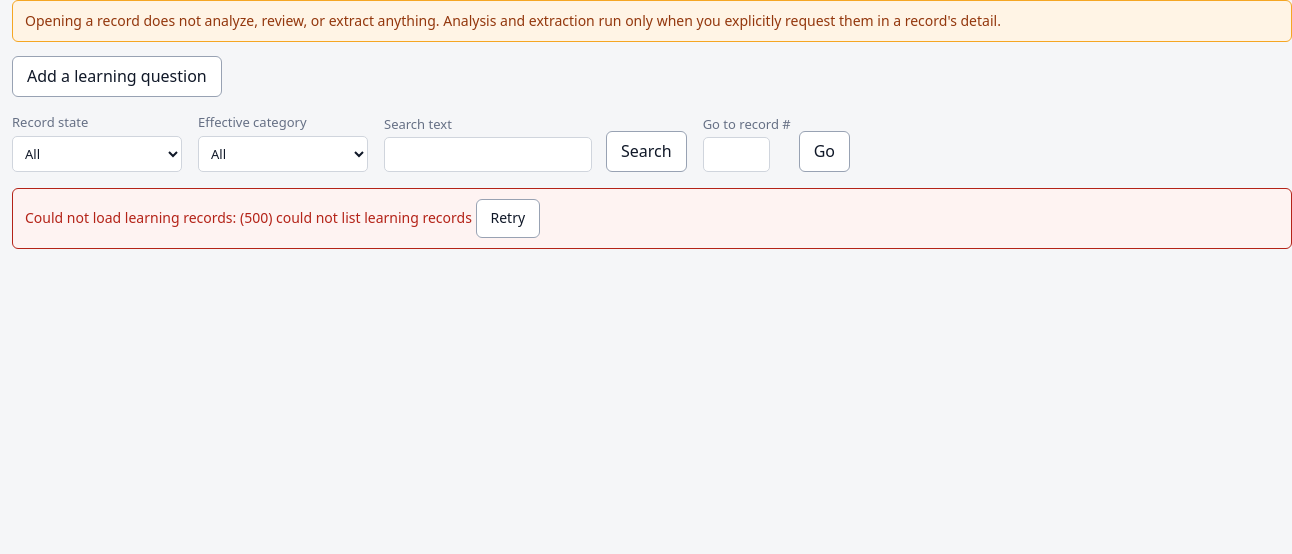
it: RecordsBrowser list, pagination, and filter › separates a failed first load from a failed older page
Expected: the message shows "Could not load learning records: (500) could not list learning records", [25,208,472,227]
Click the button "Retry" at (508, 218), box [476,199,540,238]
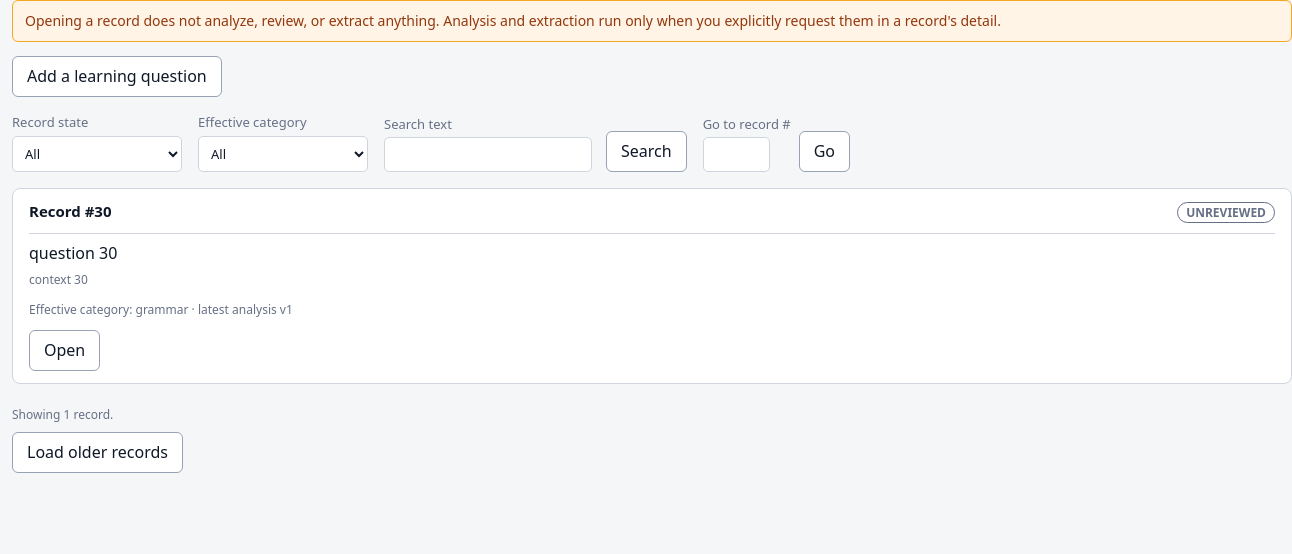
Now the text "question 30" is shown, box [29,242,117,264]
Click the button "Load older records" at (98, 452), box [12,432,183,473]
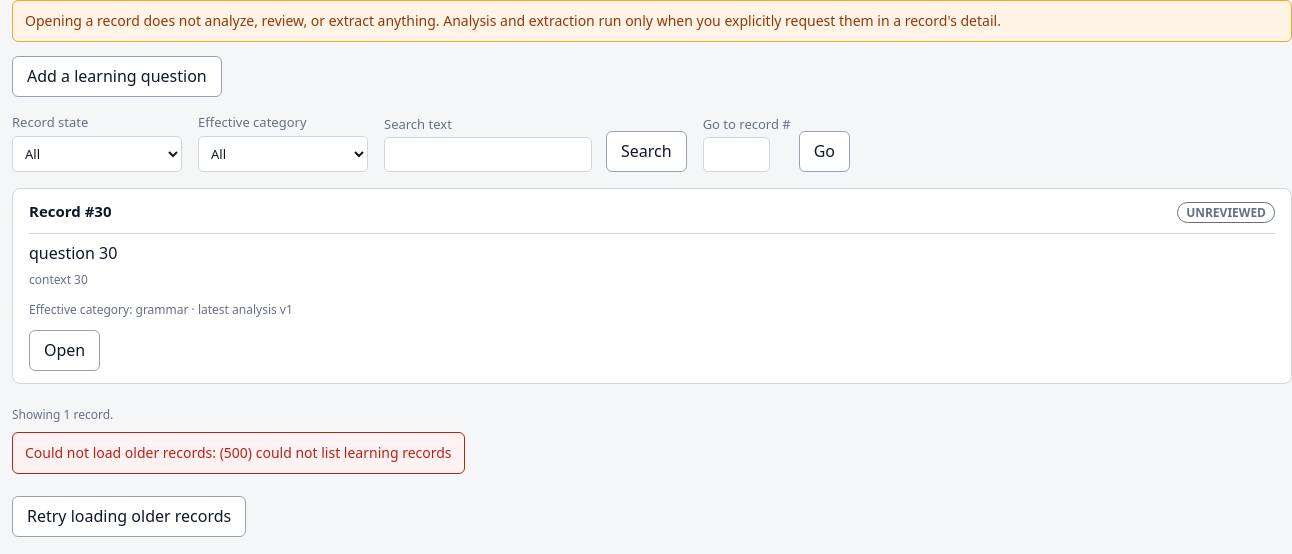
Expected: the button "Retry loading older records" is enabled, [12,496,246,537]
Now the text "question 30" is shown, box [29,242,117,264]
Now the message shows "Could not load older records", box [25,443,452,462]
